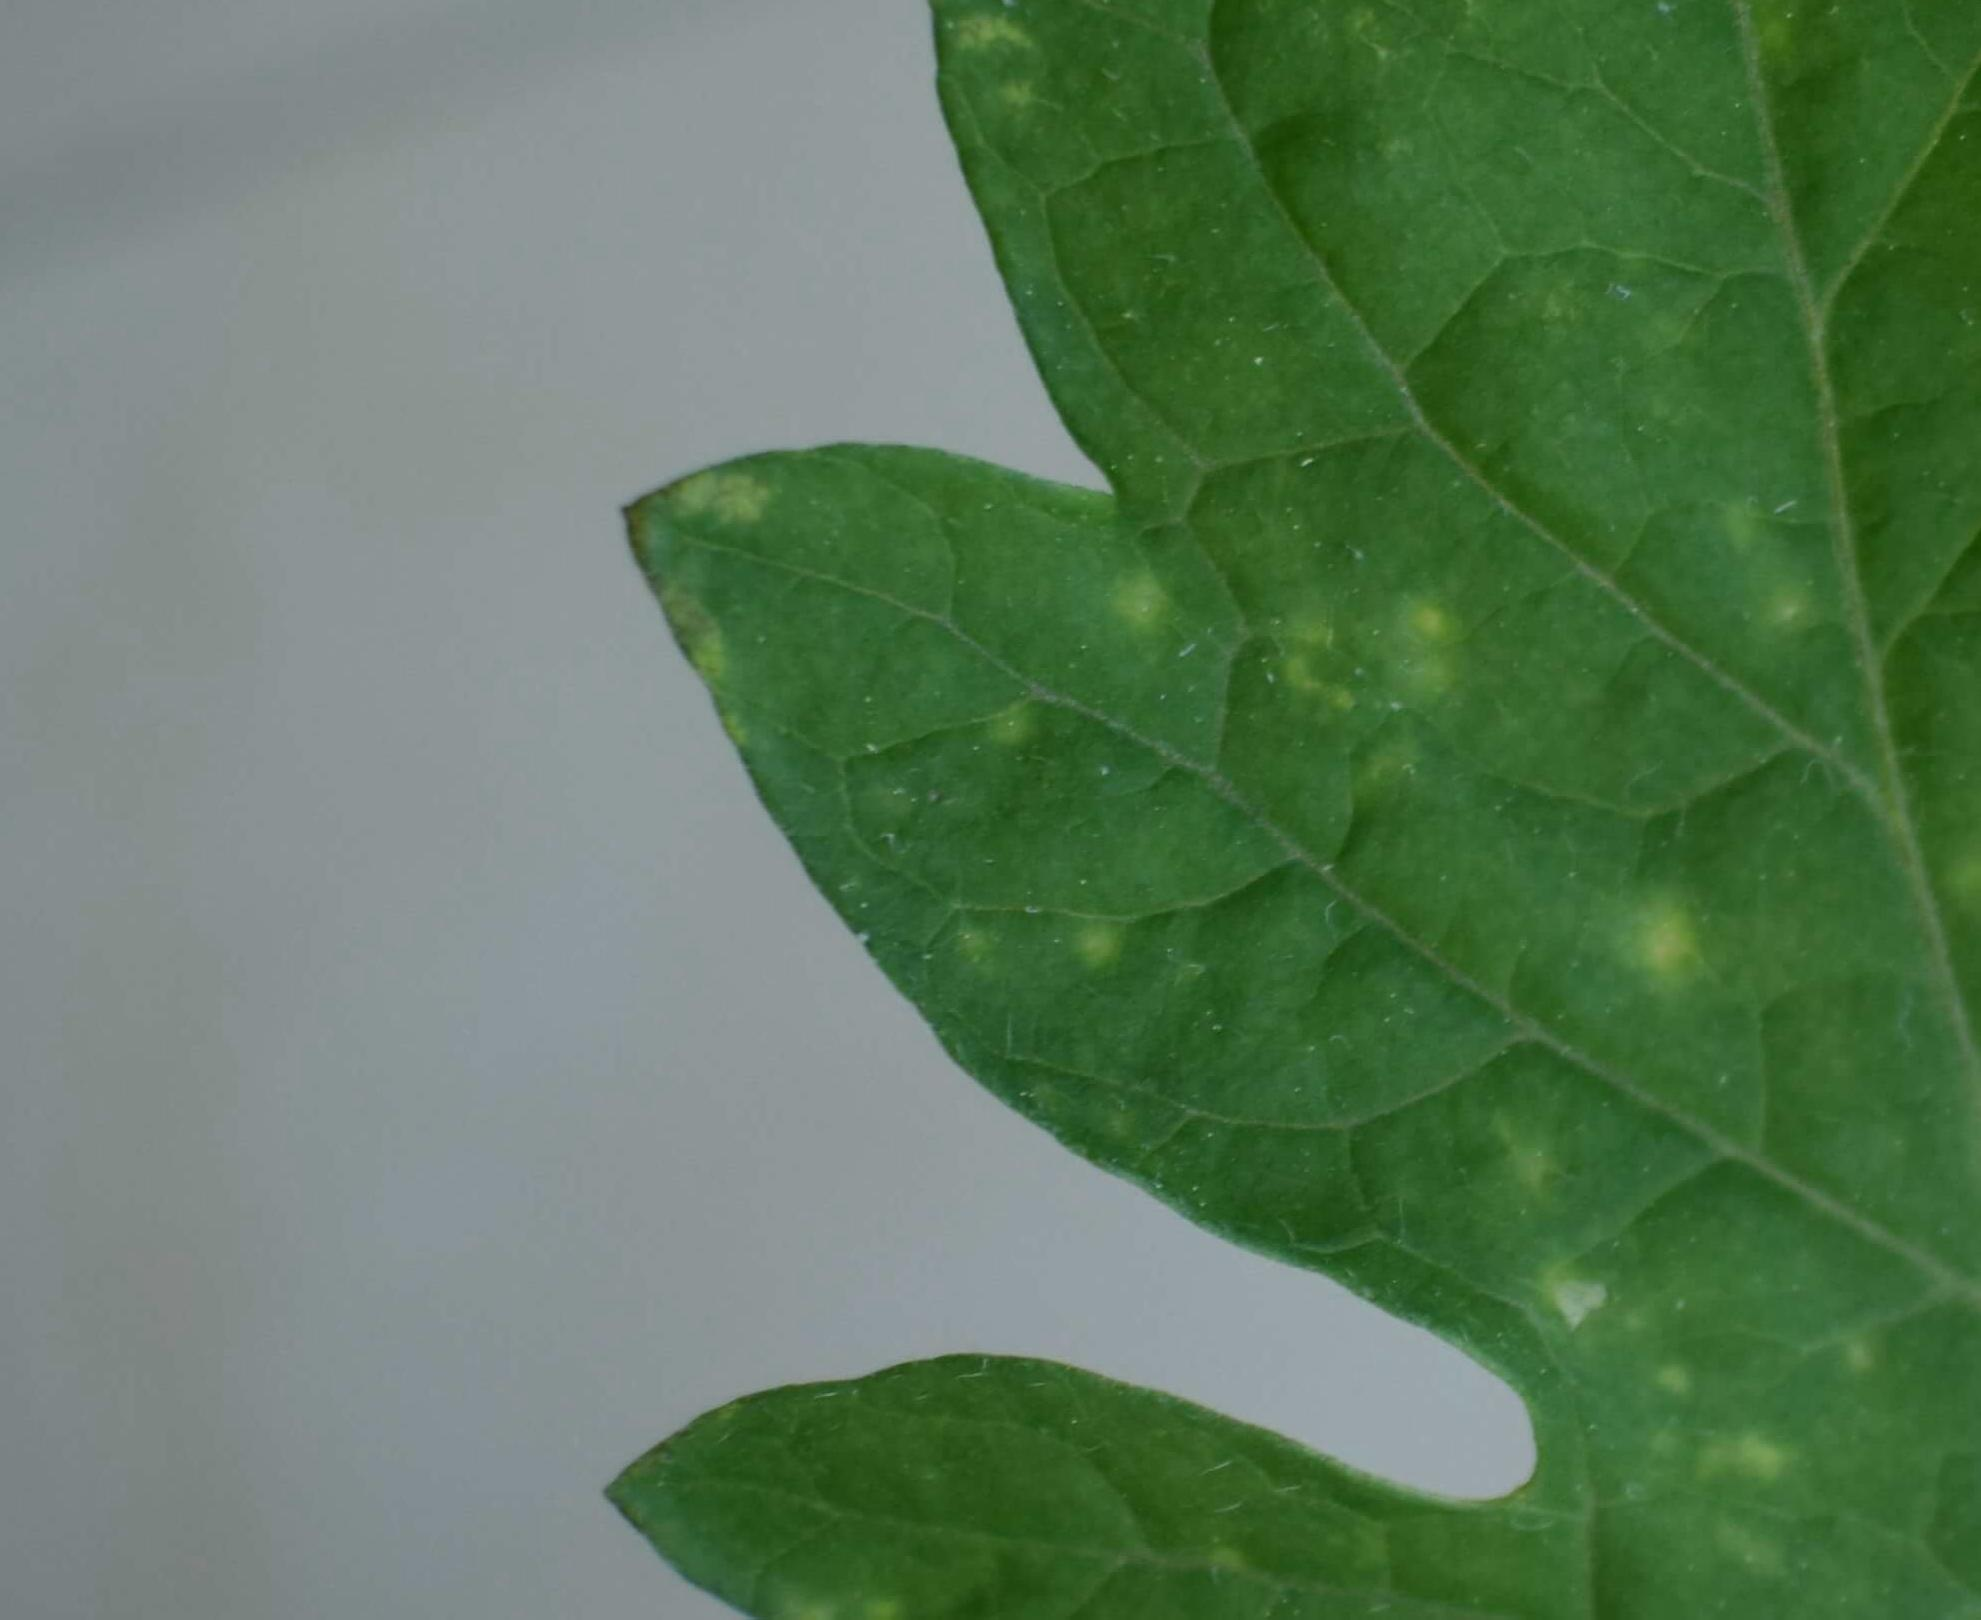Tomato mold leaf: (545, 0, 1981, 1620)
